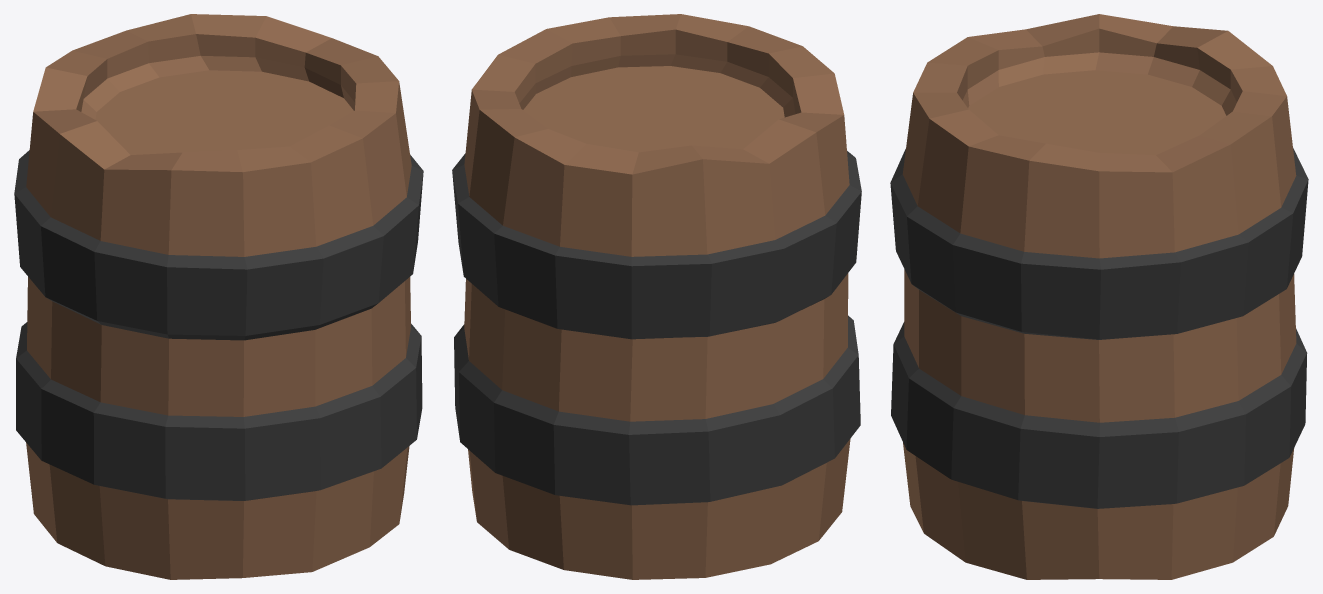
Rendered from barrel.fbx.
3 views of the same model, side by side, from view 1: azimuth 30°, elevation 25°; view 2: azimuth 150°, elevation 25°; view 3: azimuth 270°, elevation 25° (orthographic).
Parts seen in each view (by area): view 1: barrel; view 2: barrel; view 3: barrel.
Part boxes in pixels (x1,y1,x2,y2): barrel: (14,14,423,579); barrel: (452,14,861,579); barrel: (890,14,1308,579).
Bounding box in the file's own units: 1.91 × 2.12 × 1.91.
